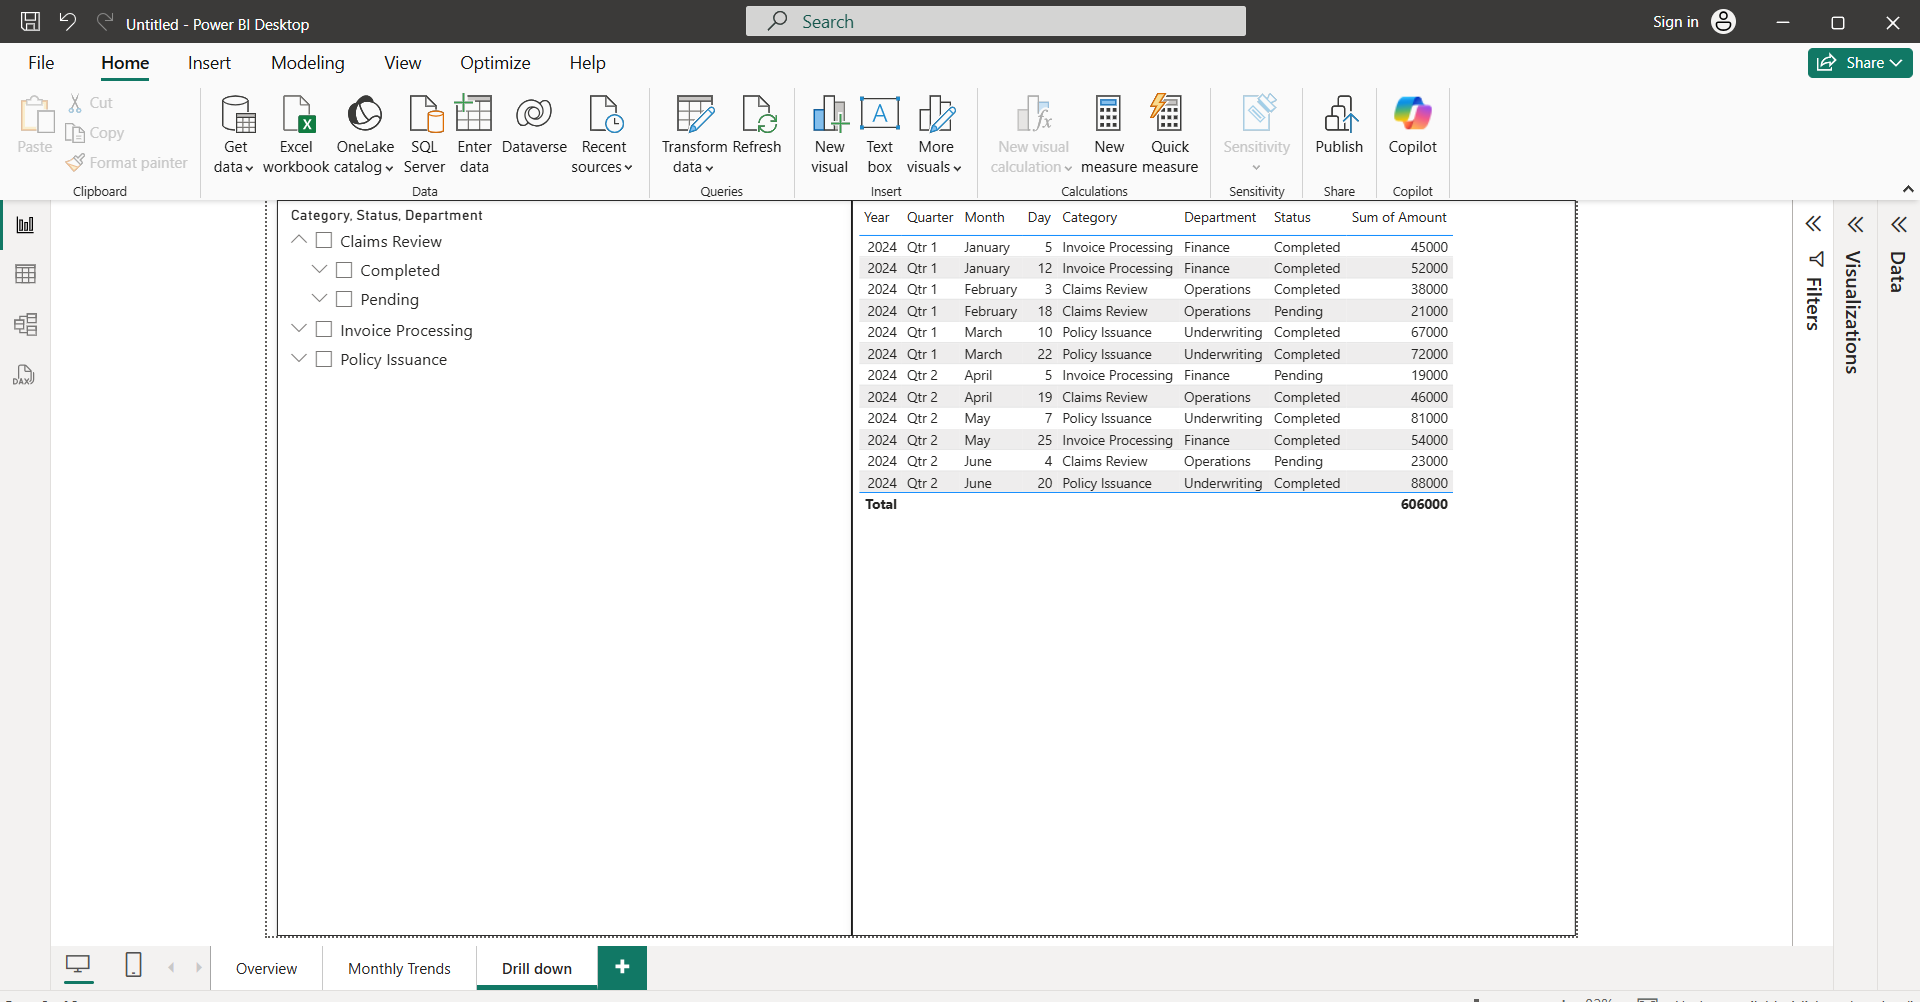

Layout of this report page (visuals, bound fields, positions):
{"tool":"powerbi","page":{"name":"Drill down","canvas":[1280,720],"ordinal":2},"visuals":[{"type":"slicer","fields":{"Values":["Operational_Data.Category","Operational_Data.Status","Operational_Data.Department"]},"box":[9.8,0,562.5,720.2],"z":0},{"type":"tableEx","fields":{"Values":["Operational_Data.Date.Variation.Date Hierarchy.Year","Operational_Data.Date.Variation.Date Hierarchy.Quarter","Operational_Data.Date.Variation.Date Hierarchy.Month","Operational_Data.Date.Variation.Date Hierarchy.Day","Operational_Data.Category","Operational_Data.Department","Operational_Data.Status","Sum(Operational_Data.Amount)"]},"box":[572.3,0,708,720.2],"z":1}]}

Visuals, with their boxes on the page's 1280x720 design canvas (x1, y1, x2, y2). These are canvas units, not pixel positions in the 1920x1002 screenshot, which may show the page scaled, cropped or inside an application window:
slicer - Operational_Data.Category x Operational_Data.Status: <box>10,0,572,720</box>
tableEx - Operational_Data.Date.Variation.Date Hierarchy.Year x Operational_Data.Date.Variation.Date Hierarchy.Quarter: <box>572,0,1280,720</box>
